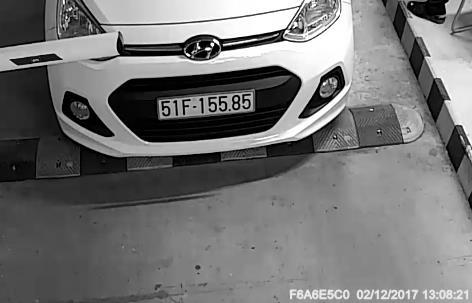License-plate: (153, 88, 264, 122)
